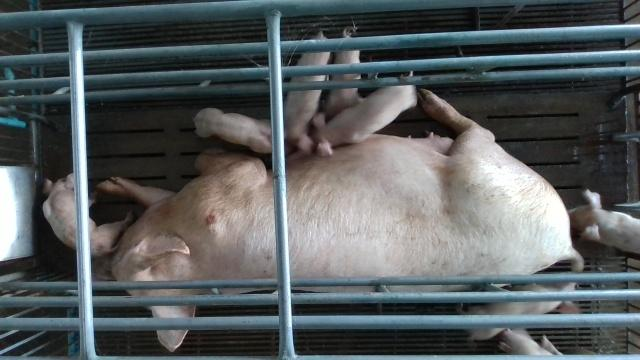piglet: (40, 170, 137, 253), (460, 283, 582, 341), (308, 85, 419, 144), (284, 30, 330, 150), (570, 190, 640, 253), (195, 107, 281, 155), (324, 36, 360, 109)
sow-sleep-lactate: (97, 87, 584, 353)
